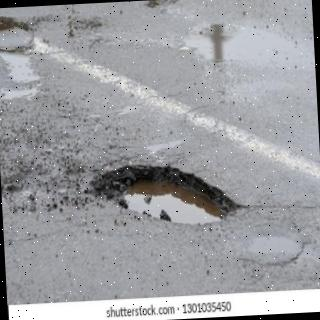pothole: (91, 165, 247, 225)
